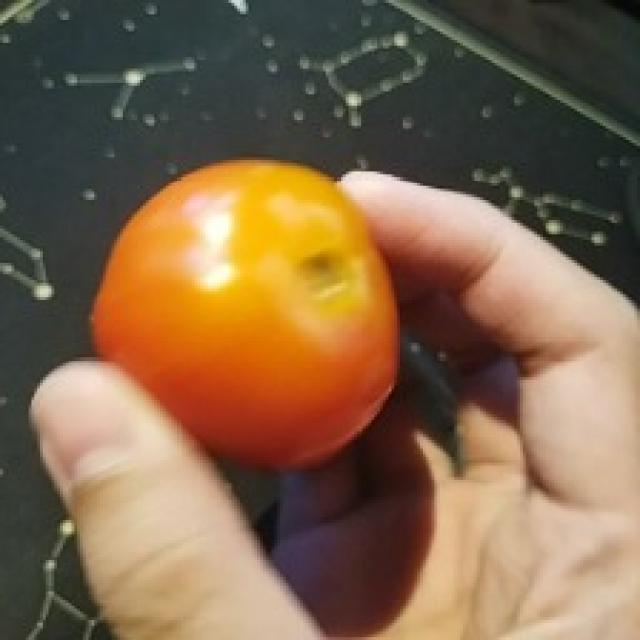Fresh Tomato: (78, 148, 420, 471)
